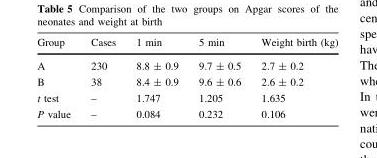table: (36, 37, 337, 119)
table column: (250, 37, 337, 119), (187, 37, 250, 119), (125, 37, 187, 119), (80, 37, 125, 119), (36, 37, 80, 119)
table column header: (36, 37, 337, 54)
table row: (36, 54, 337, 73), (36, 37, 337, 54), (36, 73, 337, 90), (36, 90, 337, 106), (36, 106, 337, 119)
